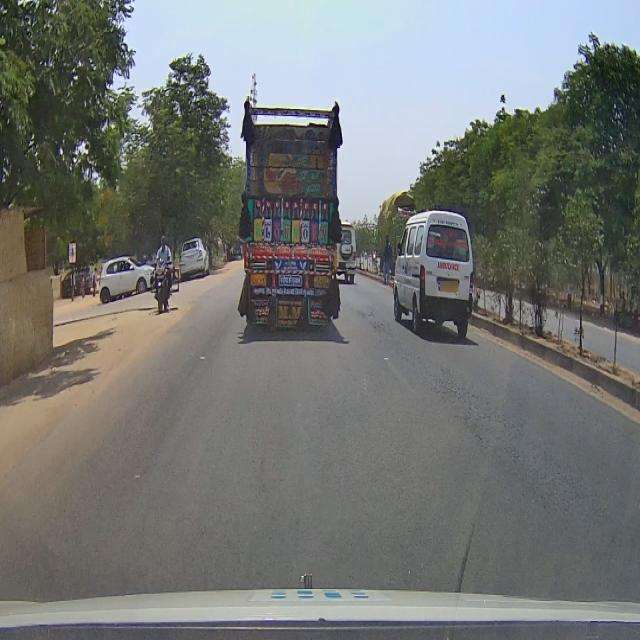car ahead at: (393, 202, 477, 336)
motorcycle ahead at: (147, 254, 174, 311)
truck ahead at: (236, 95, 350, 354)
